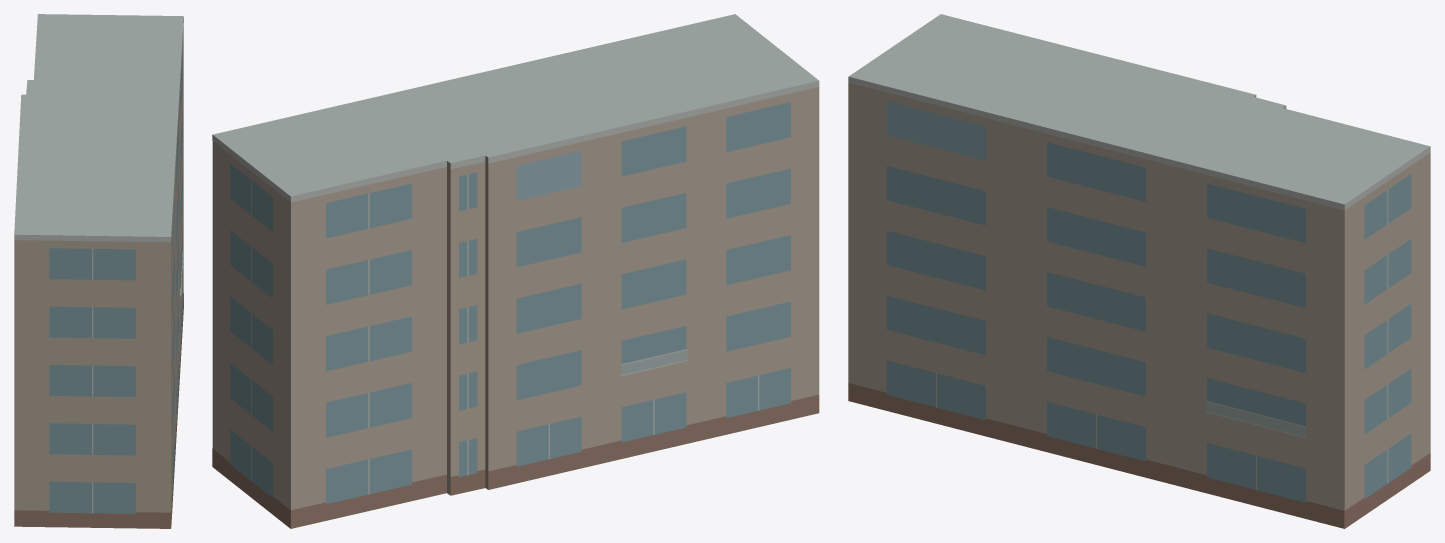
File: survey-upis-32674910.glb
3 renders of one model, left to right at view 1: azimuth 30°, elevation 25°; view 2: azimuth 150°, elevation 25°; view 3: azimuth 270°, elevation 25°, orthographic. The views are drawn at different scales.
Visible parts, largest first — view 1: survey-upis-32674910.tmp; view 2: survey-upis-32674910.tmp; view 3: survey-upis-32674910.tmp.
Part boxes in pixels (x1,y1,x2,y2): survey-upis-32674910.tmp: [14, 14, 183, 528]; survey-upis-32674910.tmp: [212, 14, 819, 528]; survey-upis-32674910.tmp: [848, 14, 1430, 528].
Size of the model in its own units: 16.76 by 13.3 by 21.64.
